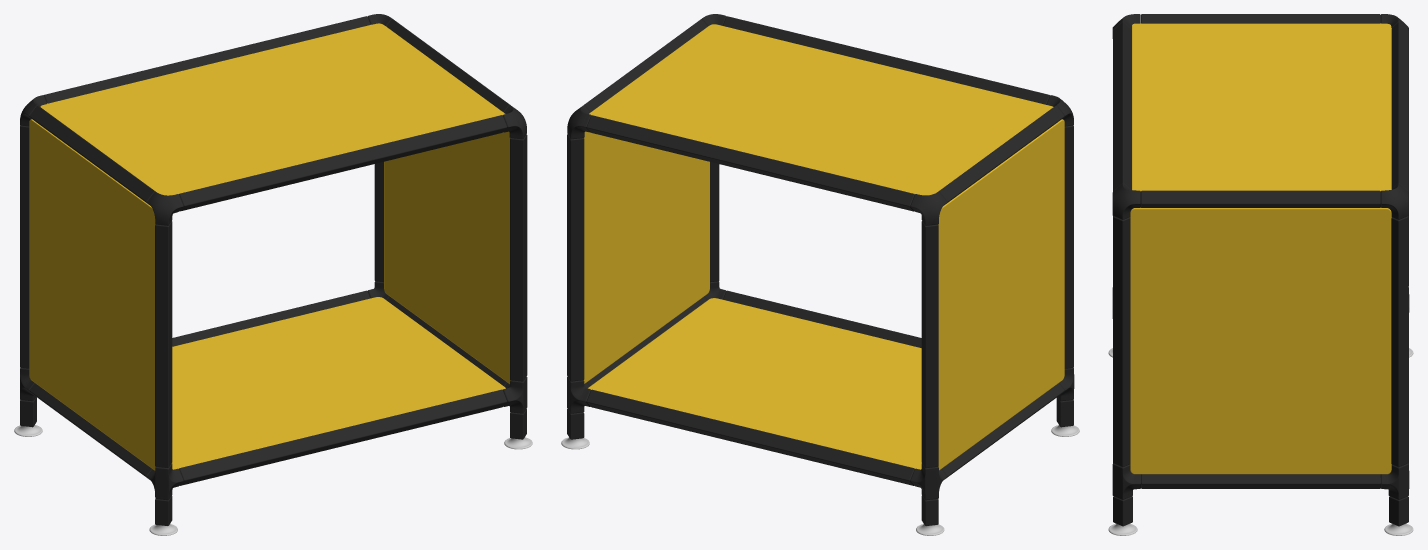
3 renders of one model, left to right at view 1: azimuth 30°, elevation 25°; view 2: azimuth 150°, elevation 25°; view 3: azimuth 270°, elevation 25°, orthographic. The views are drawn at different scales.
Parts seen in each view (by area): view 1: 523x329x374; view 2: 523x329x374; view 3: 523x329x374.
Part boxes in pixels (box(x1,y1,x2,y2)): 523x329x374: box(14, 14, 532, 535); 523x329x374: box(561, 14, 1079, 535); 523x329x374: box(1108, 14, 1413, 535).
Bounding box in the file's own units: 0.6129 × 0.5133 × 0.4182.
